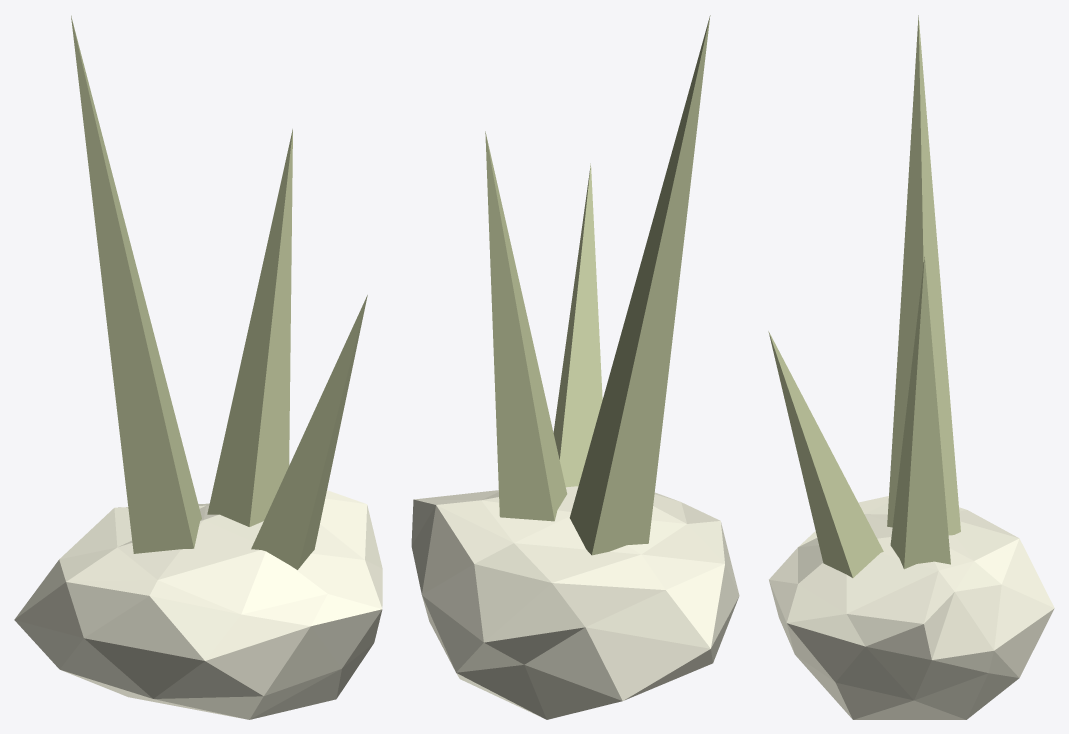
Rendered from spikes.fbx.
3 views of the same model, side by side, from view 1: azimuth 30°, elevation 25°; view 2: azimuth 150°, elevation 25°; view 3: azimuth 270°, elevation 25° (orthographic). The views are drawn at different scales.
Visible parts, largest first — view 1: Icosphere; view 2: Icosphere; view 3: Icosphere.
Boxes of the visible parts, x1=… form: Icosphere: x1=14, y1=15, x2=382, y2=719; Icosphere: x1=411, y1=15, x2=739, y2=719; Icosphere: x1=768, y1=15, x2=1054, y2=719.
Bounding box in the file's own units: 7.07 × 15.01 × 6.24.
